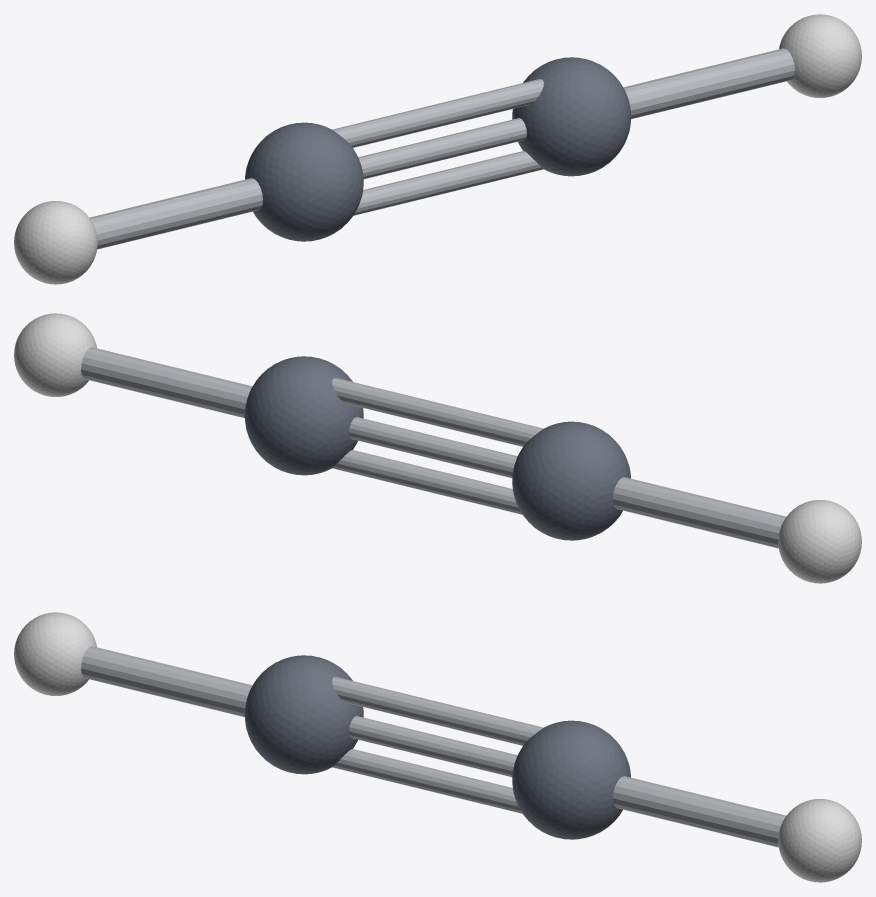
File: etino_C2H2.glb
3 views of the same model, one above another, from view 1: azimuth 30°, elevation 25°; view 2: azimuth 150°, elevation 25°; view 3: azimuth 330°, elevation 25° (orthographic).
Parts seen in each view (by area): view 1: C_1, C_2, bond_0_1_0, bond_2_3_0, H_0, H_3, bond_1_2_0, bond_1_2_2, bond_1_2_1; view 2: C_1, C_2, bond_0_1_0, bond_2_3_0, H_0, H_3, bond_1_2_0, bond_1_2_2, bond_1_2_1; view 3: C_2, C_1, bond_2_3_0, bond_0_1_0, H_3, H_0, bond_1_2_0, bond_1_2_2, bond_1_2_1.
Boxes of the visible parts, left/top/right/bottom form: C_1: left=245, top=122, right=363, bottom=241; C_2: left=512, top=57, right=631, bottom=176; bond_0_1_0: left=90, top=178, right=262, bottom=249; bond_2_3_0: left=623, top=48, right=794, bottom=119; H_0: left=14, top=201, right=97, bottom=284; H_3: left=779, top=14, right=861, bottom=97; bond_1_2_0: left=332, top=79, right=543, bottom=147; bond_1_2_2: left=353, top=151, right=543, bottom=215; bond_1_2_1: left=358, top=118, right=526, bottom=179; C_1: left=512, top=421, right=630, bottom=540; C_2: left=244, top=356, right=363, bottom=475; bond_0_1_0: left=613, top=477, right=785, bottom=548; bond_2_3_0: left=81, top=347, right=252, bottom=418; H_0: left=778, top=500, right=861, bottom=583; H_3: left=14, top=313, right=96, bottom=396; bond_1_2_0: left=332, top=378, right=543, bottom=446; bond_1_2_2: left=332, top=450, right=522, bottom=514; bond_1_2_1: left=349, top=417, right=517, bottom=478; C_2: left=512, top=720, right=630, bottom=839; C_1: left=244, top=655, right=363, bottom=774; bond_2_3_0: left=613, top=776, right=785, bottom=847; bond_0_1_0: left=81, top=646, right=252, bottom=717; H_3: left=778, top=799, right=861, bottom=882; H_0: left=14, top=612, right=96, bottom=695; bond_1_2_0: left=332, top=677, right=543, bottom=745; bond_1_2_2: left=332, top=749, right=522, bottom=813; bond_1_2_1: left=349, top=716, right=517, bottom=777.
Bounding box in the file's own units: 4.38 × 0.54 × 0.54.
